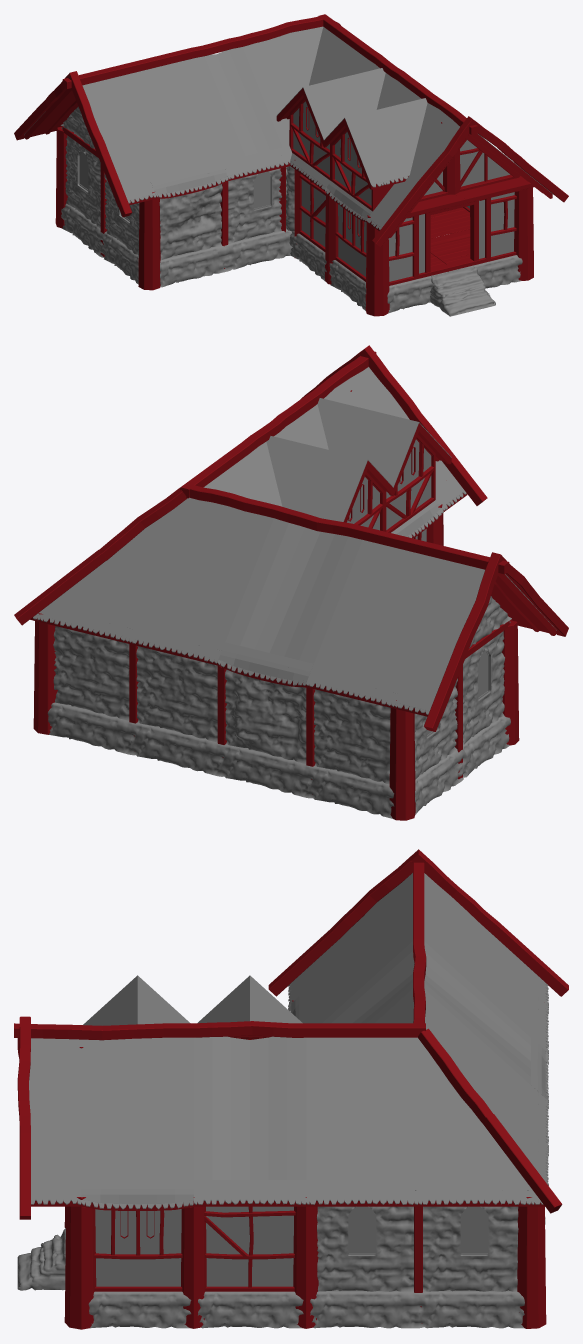
File: SM_MH_01_House_02.fbx
The picture shows the model from 3 angles, top to bottom: view 1: azimuth 30°, elevation 25°; view 2: azimuth 150°, elevation 25°; view 3: azimuth 270°, elevation 25°; orthographic projection. The views are drawn at different scales.
Parts seen in each view (by area): view 1: SM_MH_01_House_02_LOD0, SM_MH_01_House_02_Windows; view 2: SM_MH_01_House_02_LOD0; view 3: SM_MH_01_House_02_LOD0, SM_MH_01_House_02_Windows.
Part boxes in pixels (<box>): SM_MH_01_House_02_LOD0: <box>14,14,568,316</box>; SM_MH_01_House_02_Windows: <box>80,108,359,235</box>; SM_MH_01_House_02_LOD0: <box>14,345,568,820</box>; SM_MH_01_House_02_LOD0: <box>14,849,568,1329</box>; SM_MH_01_House_02_Windows: <box>121,1206,487,1252</box>.
Size of what is drawn, in the model's own units: 1481 by 761 by 1482.
